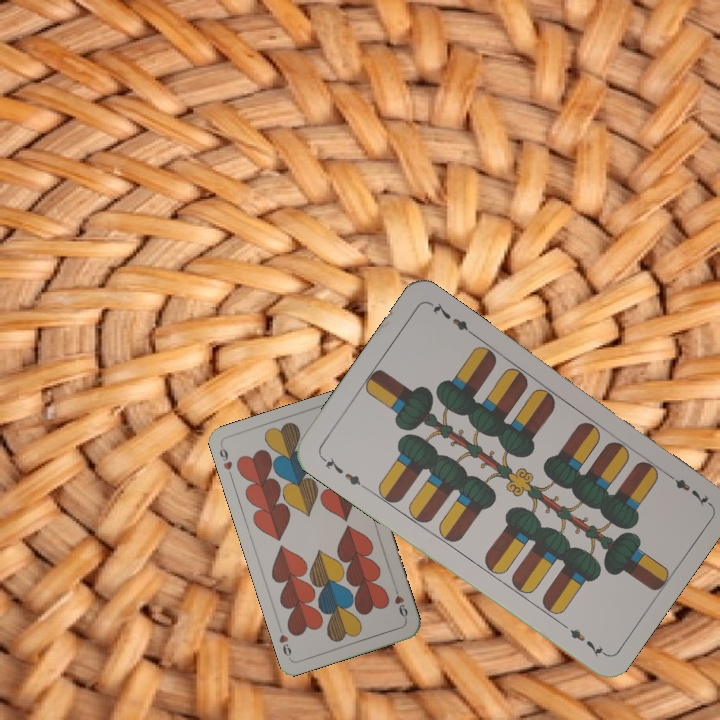E7: (660, 467, 713, 508), (317, 452, 368, 490)
H9: (215, 441, 235, 481), (390, 584, 410, 623)
